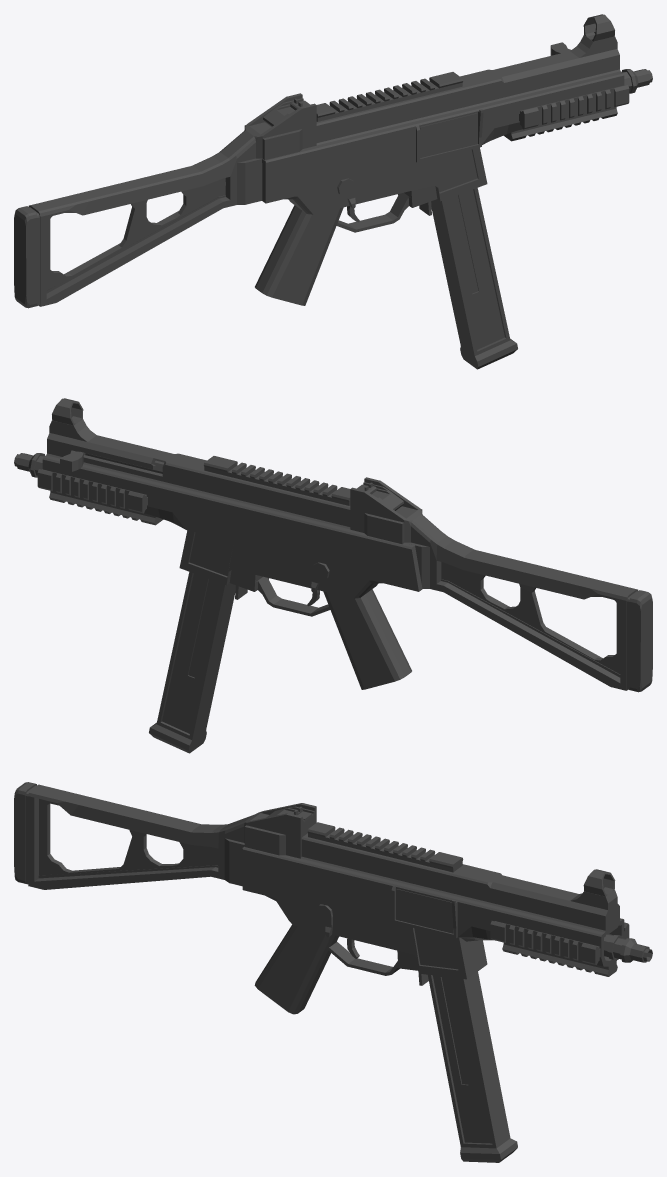
File: UMP.fbx
3 renders of one model, top to bottom at view 1: azimuth 30°, elevation 25°; view 2: azimuth 150°, elevation 25°; view 3: azimuth 330°, elevation 25°, orthographic.
Visible parts, largest first — view 1: Base, Stock, Mag, Right Rail, Chamber Cover; view 2: Base, Stock, Mag, Left Rail, Cocking Handle; view 3: Base, Stock, Mag, Right Rail, Chamber Cover.
Part boxes in pixels (bbox=[...]): Base: bbox=[244, 14, 652, 305]; Stock: bbox=[14, 124, 262, 308]; Mag: bbox=[431, 188, 517, 369]; Right Rail: bbox=[519, 85, 629, 129]; Chamber Cover: bbox=[420, 113, 477, 157]; Base: bbox=[14, 398, 422, 689]; Stock: bbox=[404, 508, 652, 692]; Mag: bbox=[149, 572, 235, 753]; Left Rail: bbox=[37, 469, 147, 513]; Cocking Handle: bbox=[60, 450, 163, 473]; Base: bbox=[242, 803, 652, 1014]; Stock: bbox=[14, 782, 261, 889]; Mag: bbox=[428, 971, 517, 1162]; Right Rail: bbox=[490, 921, 600, 964]; Chamber Cover: bbox=[396, 889, 453, 933].
Size of the model in its own units: 227 by 109 by 24.51.
